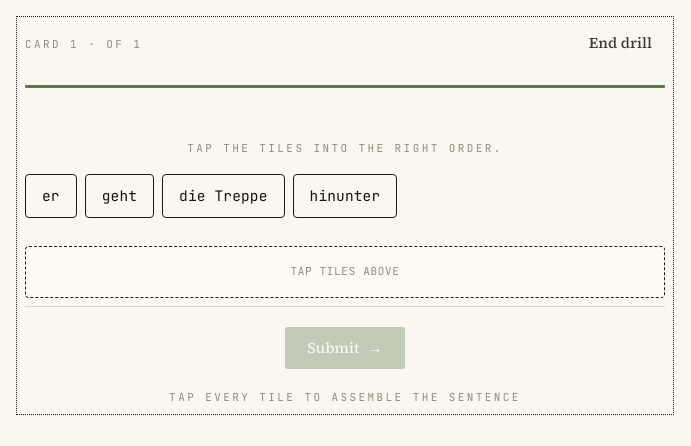
Test: AssemblyRunner — tile drill › disables Submit until every tile is placed, then enables it
Expected: the button "Submit →" is disabled, x1=285 y1=327 x2=405 y2=369
Click the button "er": [51, 196] box x1=25 y1=174 x2=77 y2=218
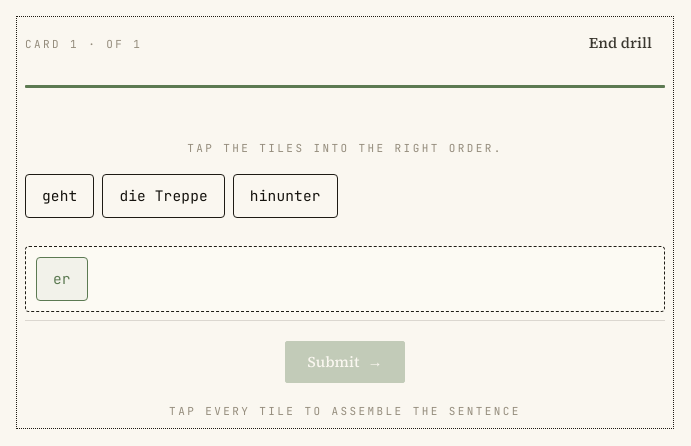
Click the button "geht": [60, 196] box x1=25 y1=174 x2=94 y2=218
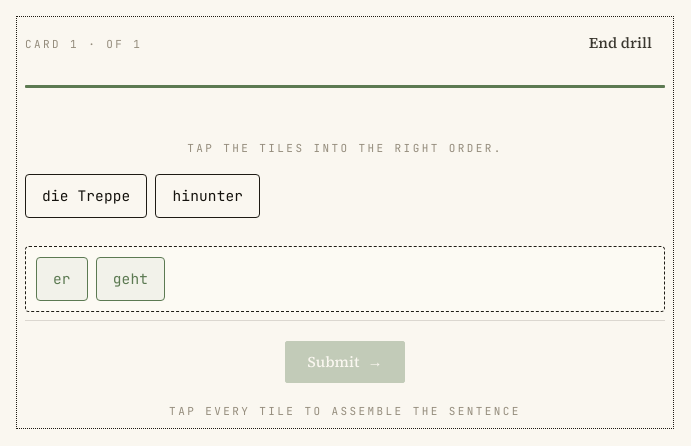
Click the button "die Treppe": [86, 196] box x1=25 y1=174 x2=148 y2=218
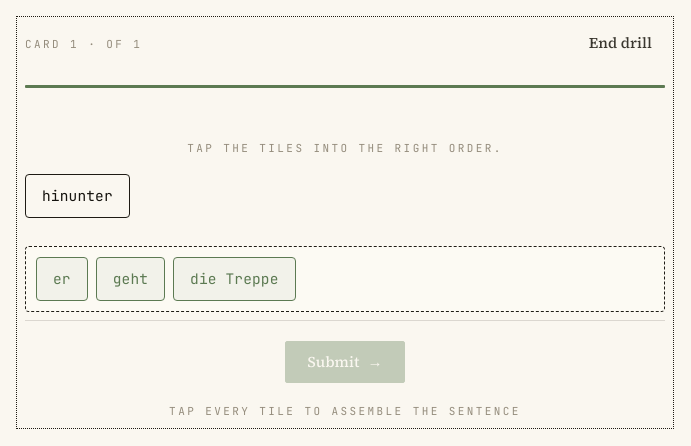
Expected: the button "Submit →" is disabled, x1=285 y1=341 x2=405 y2=383
Click the button "hinunter": [77, 196] box x1=25 y1=174 x2=130 y2=218
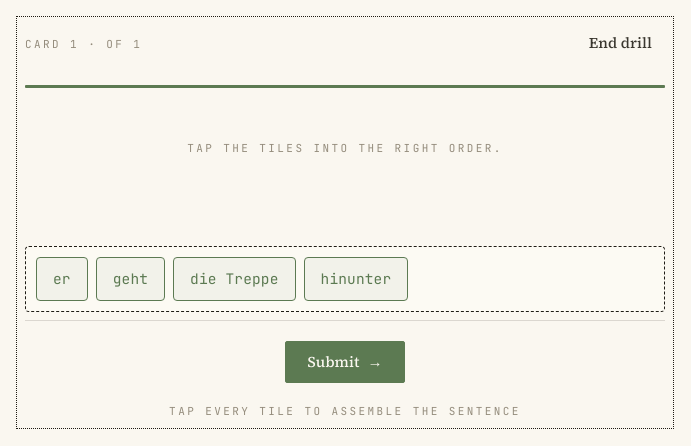
Now the button "Submit →" is enabled, box x1=285 y1=341 x2=405 y2=383
